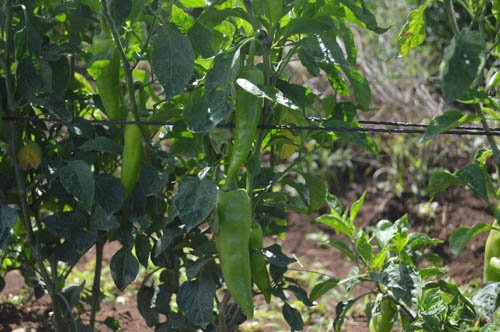ChiliPepper: (214, 192, 252, 318), (225, 69, 261, 176), (117, 117, 144, 194), (95, 36, 118, 122), (249, 223, 272, 302)
